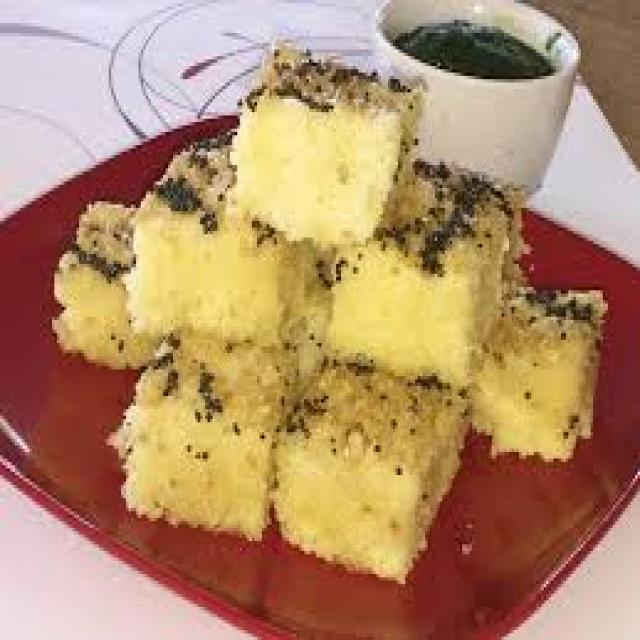DHOKLA: (54, 43, 603, 581), (255, 43, 306, 86)
